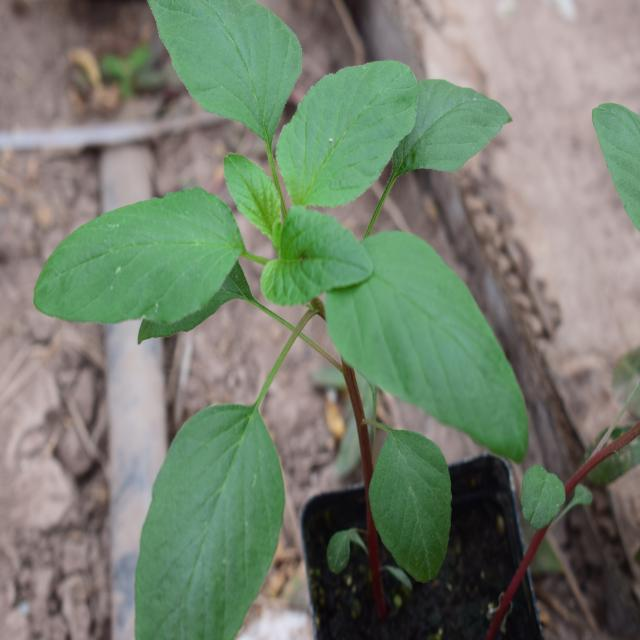pigweed: (55, 7, 510, 588)
